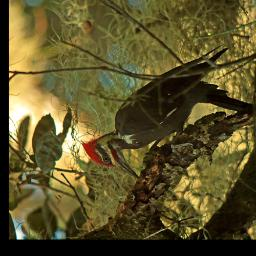Woodpecker: (80, 46, 233, 179)
